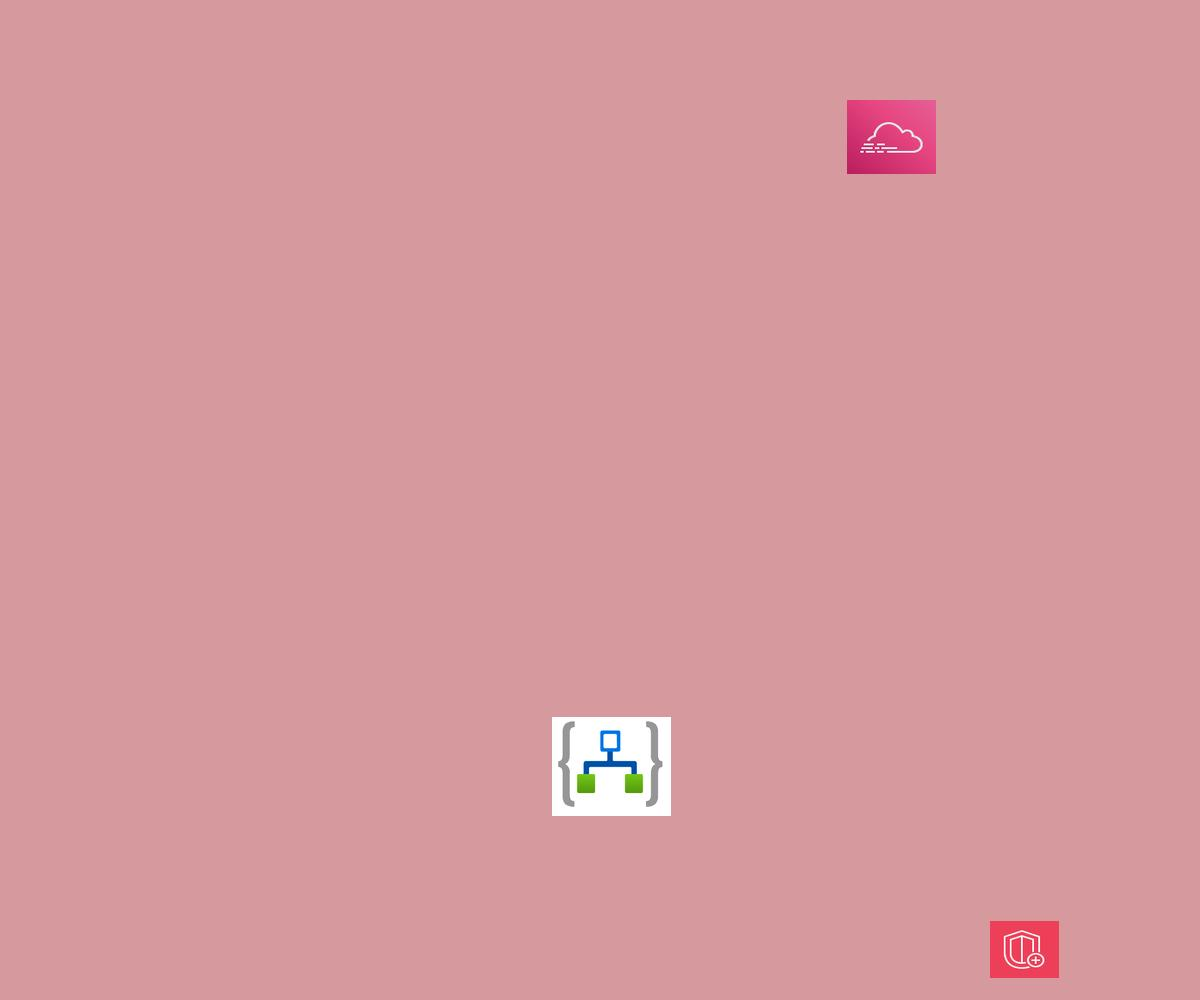AWS-CloudTrail: (847, 100, 936, 174)
AWS-Shield: (990, 921, 1059, 978)
Azure_integration-204-Logic-Apps: (552, 717, 671, 816)
